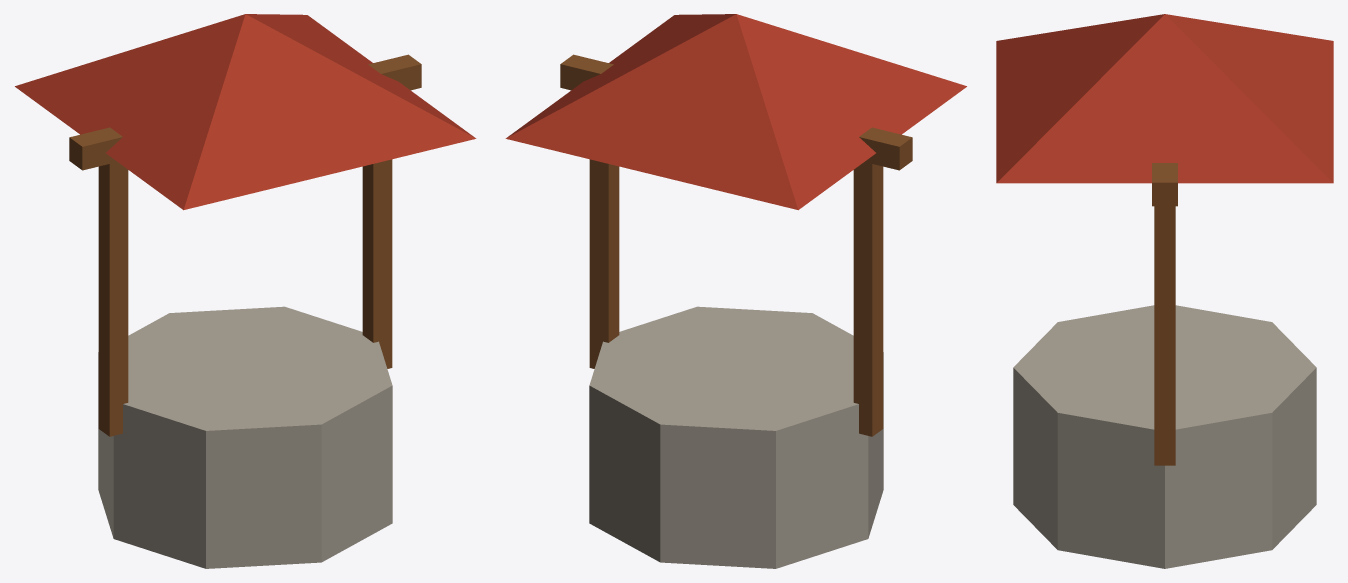
Rendered from wooden_well.fbx.
The picture shows the model from 3 angles, left to right: view 1: azimuth 30°, elevation 25°; view 2: azimuth 150°, elevation 25°; view 3: azimuth 270°, elevation 25°; orthographic projection.
Parts seen in each view (by area): view 1: wooden_well; view 2: wooden_well; view 3: wooden_well.
Boxes of the visible parts, bbox=[...] form: wooden_well: bbox=[15, 14, 476, 568]; wooden_well: bbox=[505, 14, 966, 568]; wooden_well: bbox=[996, 14, 1333, 568].
Size of the model in its own units: 1.8 by 2.5 by 1.56.
